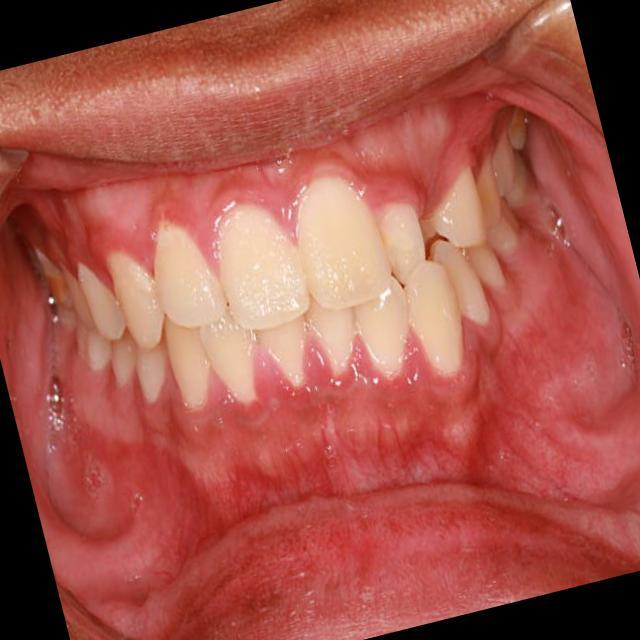redness: (471, 324, 523, 361)
swelling: (68, 179, 176, 233), (361, 158, 434, 216), (245, 346, 295, 403), (299, 336, 341, 401)
